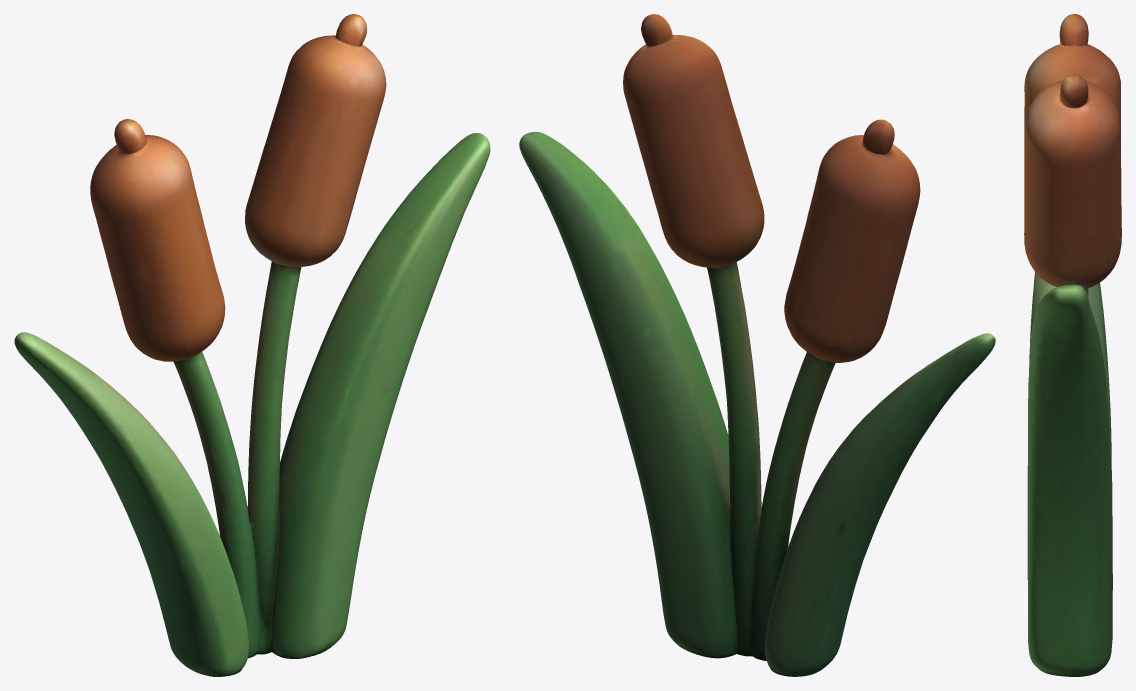
File: cattail_pbr.glb
The picture shows the model from 3 angles, left to right: view 1: azimuth 30°, elevation 25°; view 2: azimuth 150°, elevation 25°; view 3: azimuth 270°, elevation 25°; orthographic projection.
Visible parts, largest first — view 1: model; view 2: model; view 3: model.
Part boxes in pixels (<box>): model: <box>14,14,490,676</box>; model: <box>519,14,995,676</box>; model: <box>1024,14,1121,676</box>.
Bounding box in the file's own units: 1.38 × 1.71 × 0.2464.
1 material, 1 textured.
